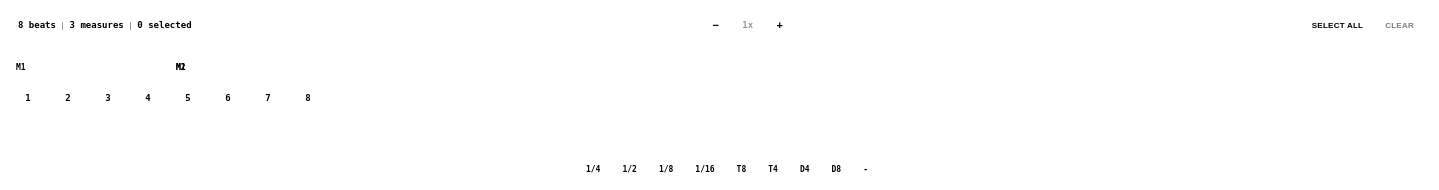
BeatSubdivisionGrid › Selection Display › clears selection when Clear button is clicked
This screenshot has width=1439, height=190.
// Select all
Step 1. Click the button "Select All" → x=1338, y=25, box [1304,16,1371,34]
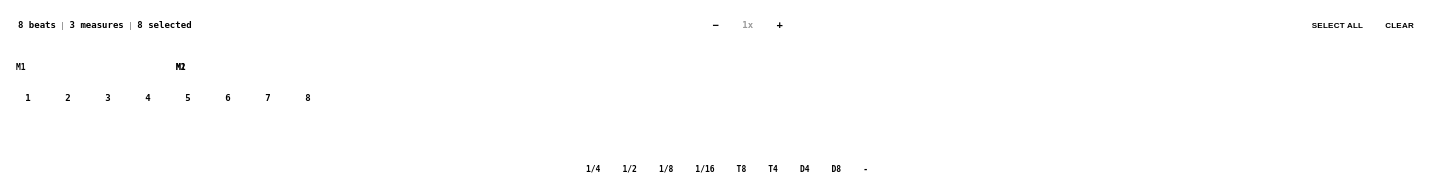
Result: the text "8 selected" is shown at [137,20,192,30]
// Clear selection
Step 2. Click the button "Clear" → x=1400, y=25, box [1377,16,1422,34]
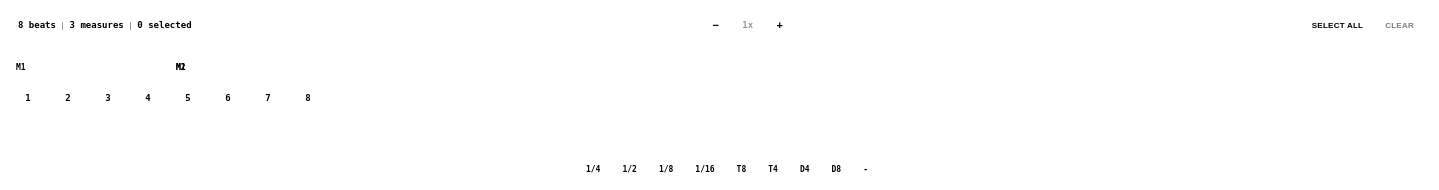
Result: the text "0 selected" is shown at [137,20,192,30]
